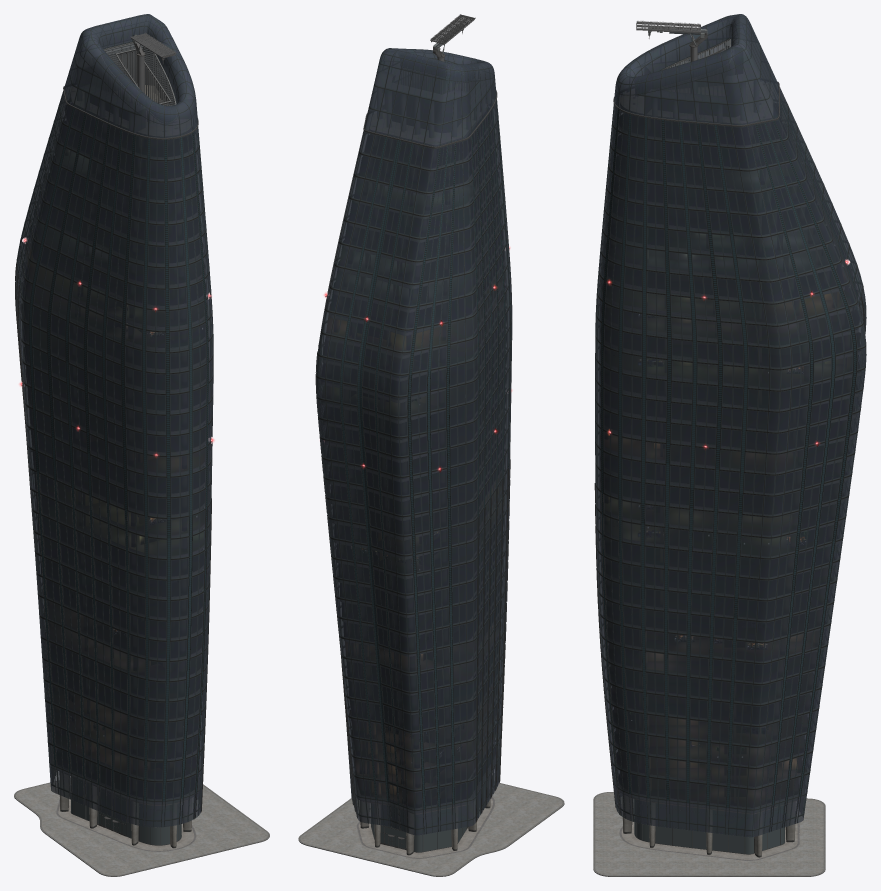
The model's file is free-london-skyscraper.glb.
3 views of the same model, side by side, from view 1: azimuth 30°, elevation 25°; view 2: azimuth 150°, elevation 25°; view 3: azimuth 270°, elevation 25° (orthographic). The views are drawn at different scales.
Parts seen in each view (by area): view 1: Glass_Generic, Building_Facade.003, Interior_Top, Glass_Generic_More_Opaque, Building_Facade.008, Sidewalk_02, Building_Facade.007, Top_Piece, Glass_Generic.001, Building_Facade.006, Sidewalk_01, Glass_Lobby.002 (+3 smaller); view 2: Glass_Generic, Building_Facade.003, Interior_Top, Glass_Generic_More_Opaque, Building_Facade.007, Sidewalk_02, Building_Facade.008, Top_Piece, Glass_Generic.001, Building_Facade.006, Sidewalk_01, Building_Facade.004 (+3 smaller); view 3: Glass_Generic, Interior_Top, Building_Facade.003, Glass_Generic_More_Opaque, Building_Facade.008, Sidewalk_02, Building_Facade.007, Top_Piece, Glass_Generic.001, Building_Facade.006, Glass_Lobby.002, Sidewalk_01 (+5 smaller).
Boxes of the visible parts, x1,y1,x2,y2 form: Glass_Generic: (15,91,213,800); Building_Facade.003: (15,88,213,801); Interior_Top: (21,105,208,798); Glass_Generic_More_Opaque: (64,14,197,137); Building_Facade.008: (21,103,205,779); Sidewalk_02: (16,779,267,875); Building_Facade.007: (15,262,211,798); Top_Piece: (70,40,195,135); Glass_Generic.001: (49,764,201,827); Building_Facade.006: (63,14,198,139); Sidewalk_01: (14,781,269,876); Glass_Lobby.002: (71,777,181,844); Glass_Generic: (316,99,512,809); Building_Facade.003: (316,100,512,810); Interior_Top: (321,107,506,807); Glass_Generic_More_Opaque: (364,48,496,146); Building_Facade.007: (315,343,510,808); Sidewalk_02: (300,783,562,875); Building_Facade.008: (321,104,506,792); Top_Piece: (370,68,494,144); Glass_Generic.001: (350,742,501,835); Building_Facade.006: (363,48,497,148); Sidewalk_01: (298,783,564,876); Building_Facade.004: (349,741,501,835); Glass_Generic: (595,88,866,808); Interior_Top: (600,103,860,807); Building_Facade.003: (595,80,866,809); Glass_Generic_More_Opaque: (614,14,778,124); Building_Facade.008: (600,104,861,787); Sidewalk_02: (595,792,823,875); Building_Facade.007: (594,296,864,804); Top_Piece: (620,38,772,122); Glass_Generic.001: (613,770,807,837); Building_Facade.006: (613,14,779,126); Glass_Lobby.002: (634,799,784,853); Sidewalk_01: (593,792,825,876).
Size of what is drawn, in the model's own units: 37.24 by 167 by 50.93.
19 materials, 17 textured.
